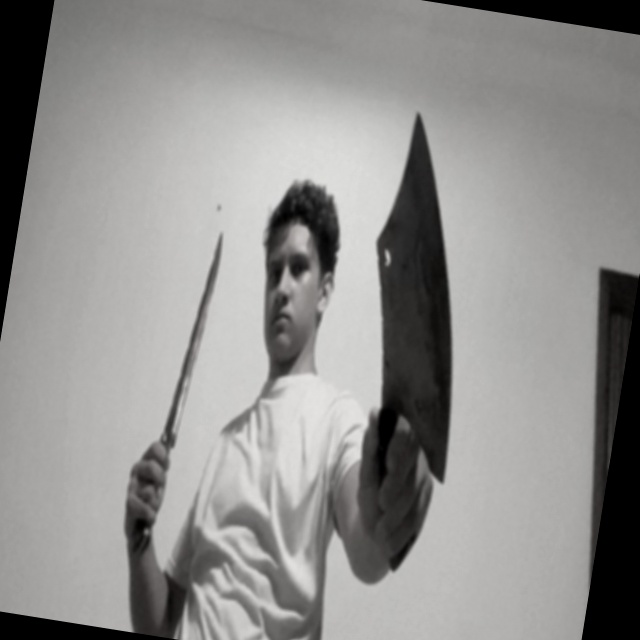Sharp-Object: (337, 104, 502, 484), (161, 224, 225, 450)
